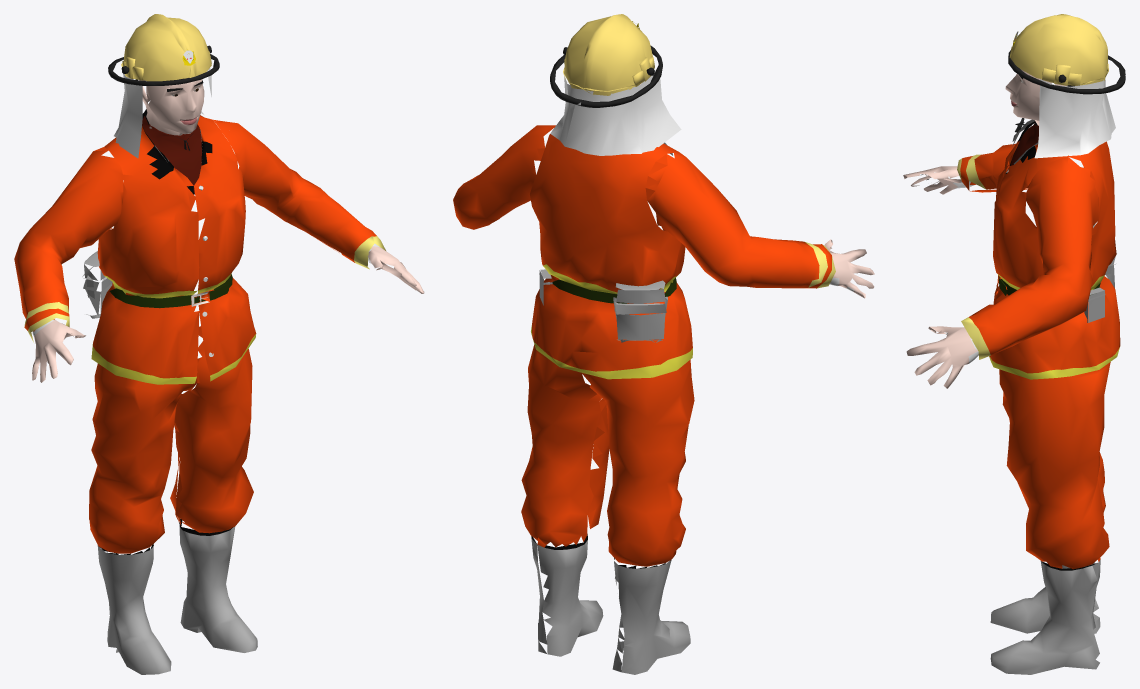
The model's file is xiaofangyuan.glb.
3 renders of one model, left to right at view 1: azimuth 30°, elevation 25°; view 2: azimuth 150°, elevation 25°; view 3: azimuth 270°, elevation 25°, orthographic.
Visible parts, largest first — view 1: GreenManHe_LOD1; view 2: GreenManHe_LOD1; view 3: GreenManHe_LOD1.
Boxes of the visible parts, x1,y1,x2,y2 form: GreenManHe_LOD1: (14, 14, 424, 674); GreenManHe_LOD1: (453, 14, 874, 674); GreenManHe_LOD1: (903, 14, 1125, 674).
Bounding box in the file's own units: 1.22 × 1.89 × 0.6054.
